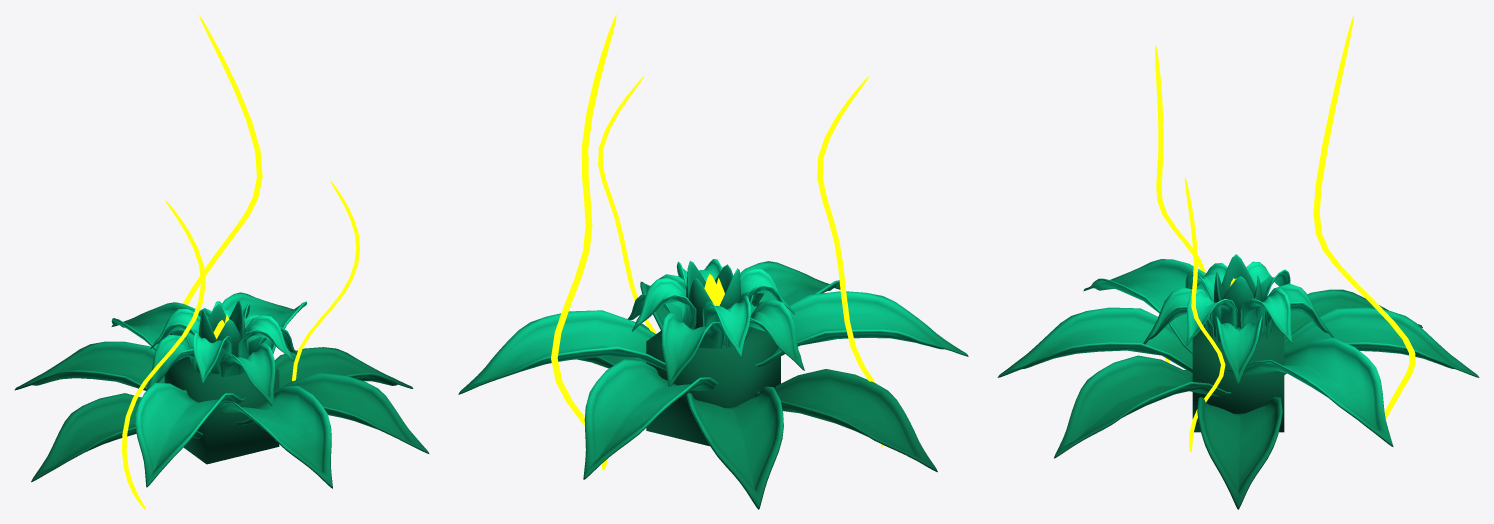
File: Modé Plante Base C.glb
3 renders of one model, left to right at view 1: azimuth 30°, elevation 25°; view 2: azimuth 150°, elevation 25°; view 3: azimuth 270°, elevation 25°, orthographic. The views are drawn at different scales.
Visible parts, largest first — view 1: Plane.001, Plane.005, Cube.006, Cube.009, Cube.002; view 2: Plane.001, Plane.005, Cube.006, Cube.009, Cube.002; view 3: Plane.001, Plane.005, Cube.009, Cube.006, Cube.002.
Boxes of the visible parts, x1,y1,x2,y2 form: Plane.001: (14,292,429,488); Plane.005: (146,301,296,405); Cube.006: (164,356,279,464); Cube.009: (122,15,359,509); Cube.002: (198,300,245,357); Plane.001: (458,261,968,509); Plane.005: (628,259,804,386); Cube.006: (646,327,780,446); Cube.009: (551,14,883,469); Cube.002: (686,260,740,329); Plane.001: (997,259,1479,509); Plane.005: (1143,261,1334,385); Cube.009: (1155,15,1415,452); Cube.006: (1192,322,1284,432); Cube.002: (1214,254,1262,327).
Bounding box in the file's own units: 3.92 × 3.9 × 3.92.
6 materials, 4 textured.
